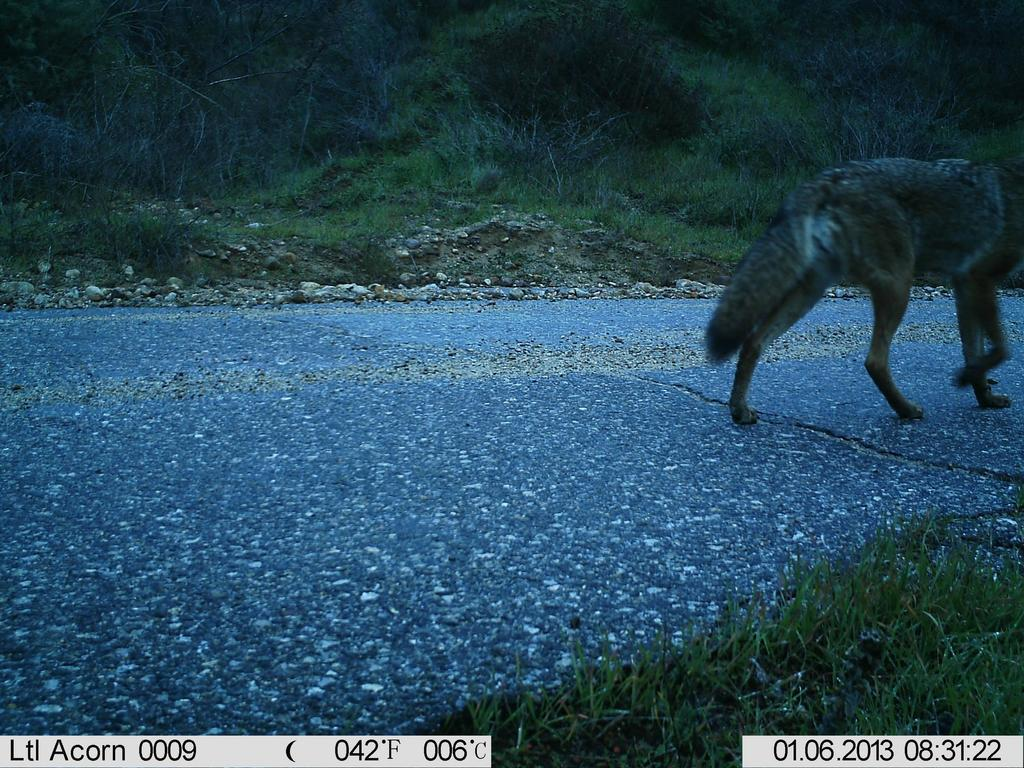coyote: (699, 149, 1023, 433)
